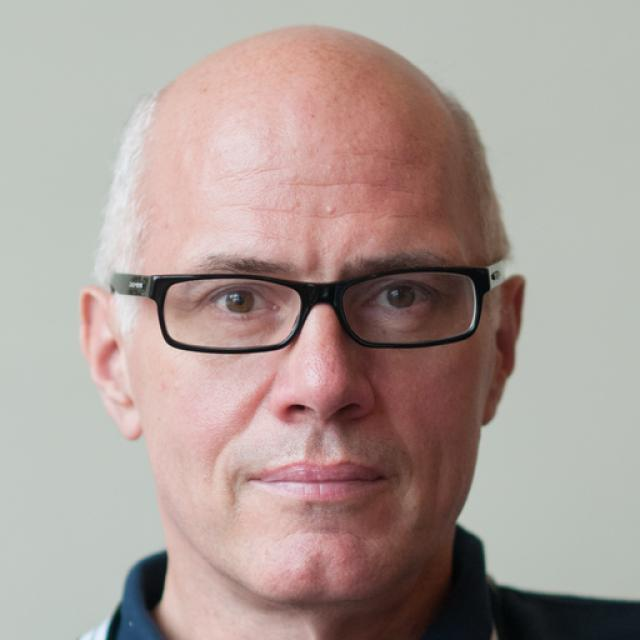Acne: (311, 203, 345, 222)
Wrinkle: (284, 176, 394, 192), (240, 201, 314, 220)
